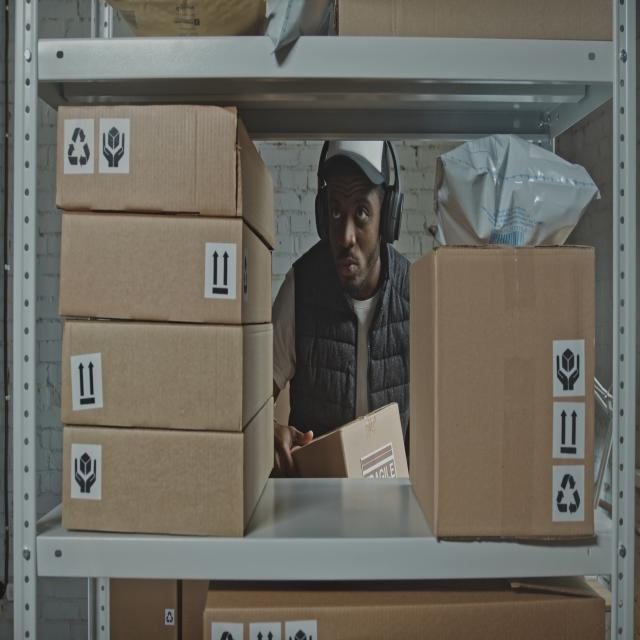counting-the-number-of-boxes: (408, 246, 595, 539), (56, 105, 275, 249), (62, 396, 276, 538), (58, 214, 273, 326), (61, 318, 274, 429), (290, 402, 409, 478)
